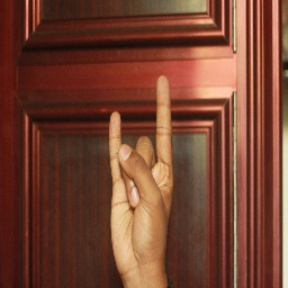V: (102, 73, 183, 276)
